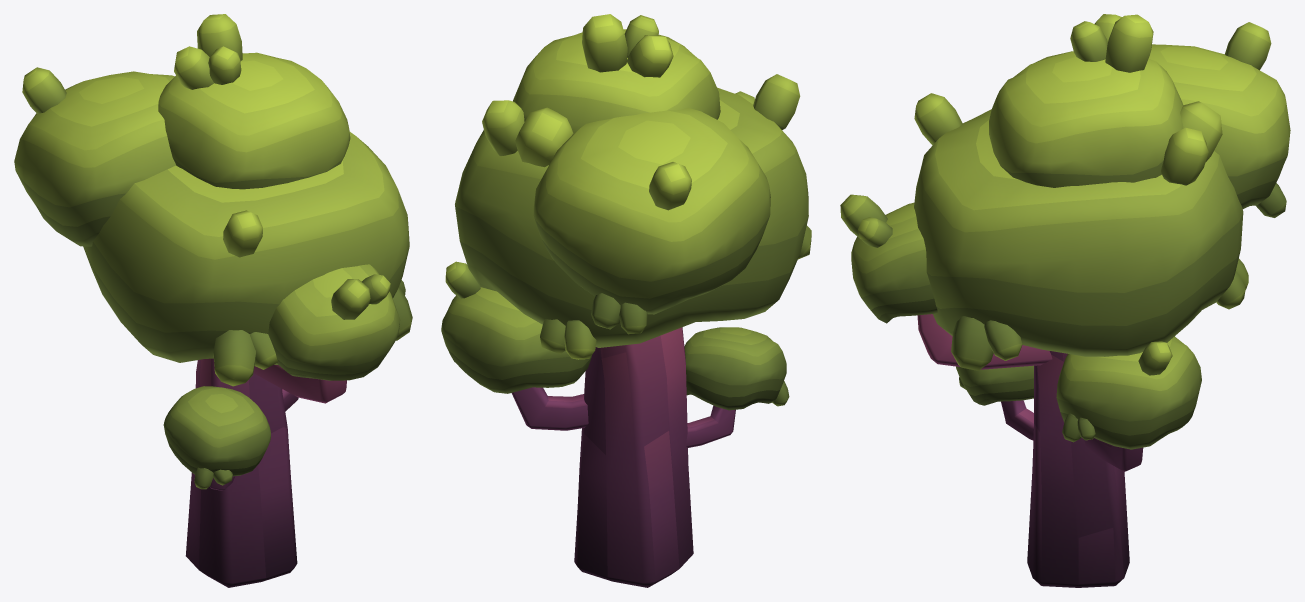
The model's file is grassland_tree_col1_5.fbx.
3 renders of one model, left to right at view 1: azimuth 30°, elevation 25°; view 2: azimuth 150°, elevation 25°; view 3: azimuth 270°, elevation 25°, orthographic. The views are drawn at different scales.
Parts seen in each view (by area): view 1: grassland_tree_col1_5; view 2: grassland_tree_col1_5; view 3: grassland_tree_col1_5.
Part boxes in pixels (x1,y1,x2,y2): grassland_tree_col1_5: (14,14,412,587); grassland_tree_col1_5: (441,14,811,587); grassland_tree_col1_5: (840,14,1290,587).
Bounding box in the file's own units: 531 × 914 × 672.
Materials: 1 (1 with a texture image).
